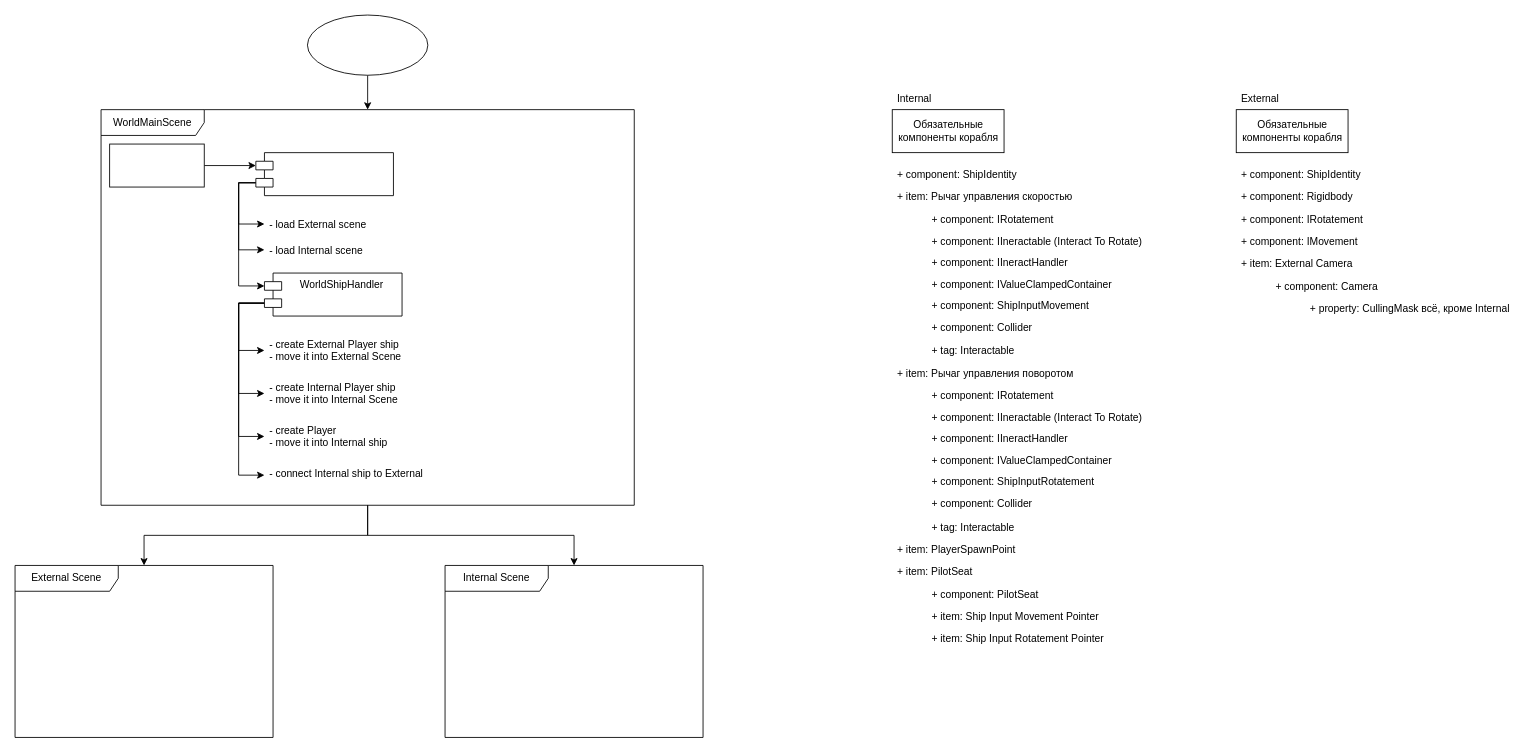
This 1535x753 diagram has some shape labels left out. The centre of each missing label's shape, as x and y in pixels:
Start Game: the point at 367,44
WorldHandler: the point at 156,165
WorldSceneHandler: the point at 324,174
